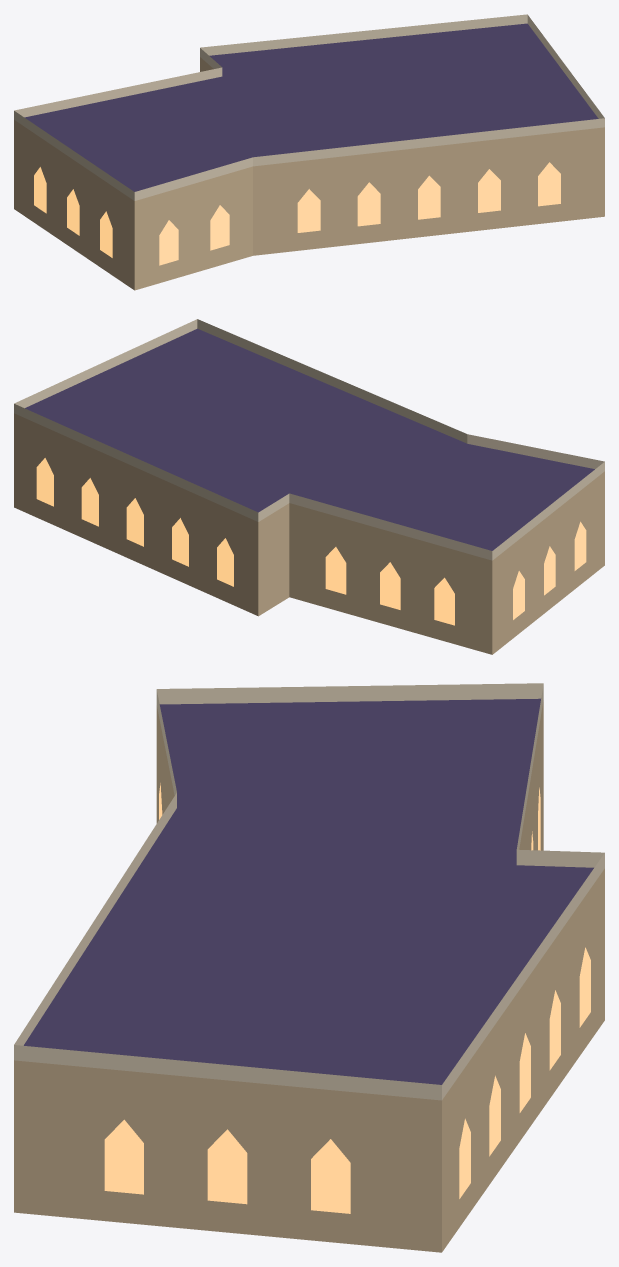
File: b-006-brough-house.glb
The picture shows the model from 3 angles, top to bottom: view 1: azimuth 30°, elevation 25°; view 2: azimuth 150°, elevation 25°; view 3: azimuth 270°, elevation 25°; orthographic projection. The views are drawn at different scales.
Parts seen in each view (by area): view 1: campus/b-006-brough-house-0; view 2: campus/b-006-brough-house-0; view 3: campus/b-006-brough-house-0.
Boxes of the visible parts, x1=… form: campus/b-006-brough-house-0: x1=14, y1=14, x2=604, y2=290; campus/b-006-brough-house-0: x1=14, y1=319, x2=604, y2=654; campus/b-006-brough-house-0: x1=14, y1=683, x2=604, y2=1252.
Size of the model in its own units: 30.57 by 5.95 by 19.
